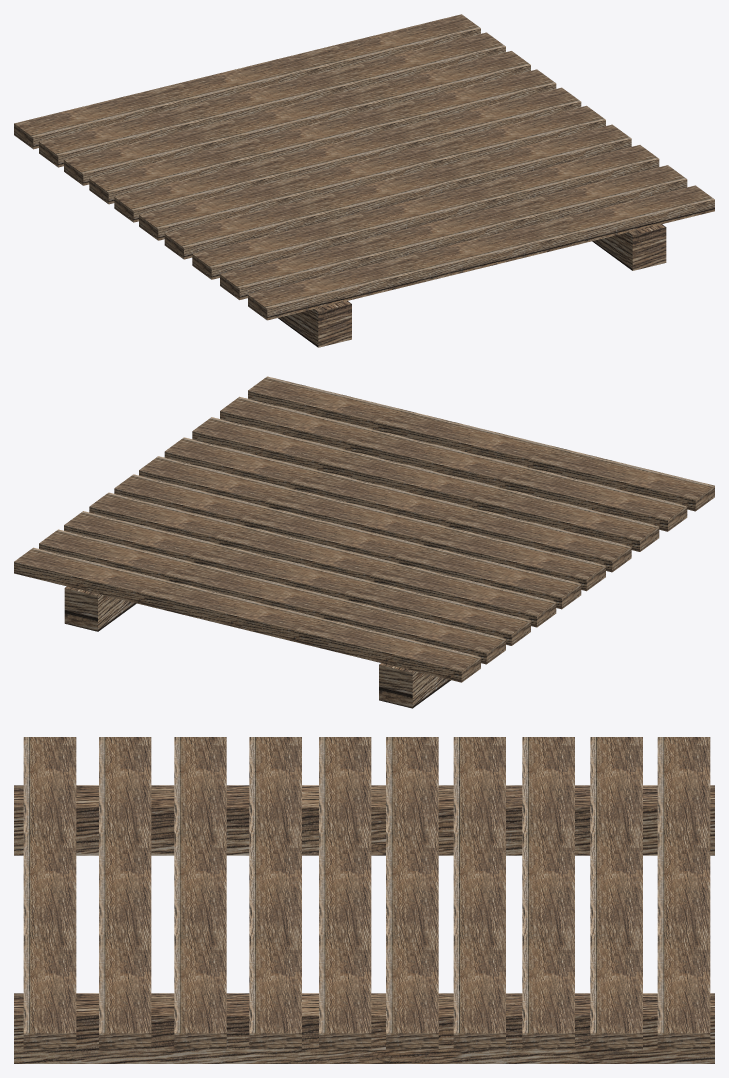
File: MuellePlat.fbx
The picture shows the model from 3 angles, top to bottom: view 1: azimuth 30°, elevation 25°; view 2: azimuth 150°, elevation 25°; view 3: azimuth 270°, elevation 25°; orthographic projection. The views are drawn at different scales.
Visible parts, largest first — view 1: Cube.014; view 2: Cube.014; view 3: Cube.014.
Part boxes in pixels (box(x1,y1,x2,y2)): Cube.014: box(14, 14, 714, 347); Cube.014: box(14, 376, 714, 708); Cube.014: box(14, 737, 714, 1063).
Size of the model in its own units: 400 by 40.92 by 400.
Materials: 1 (1 with a texture image).
